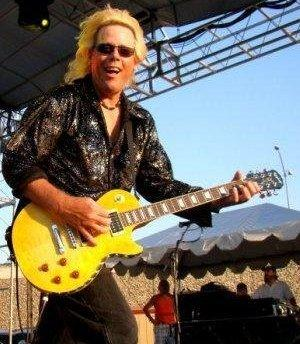person: (3, 9, 259, 344)
